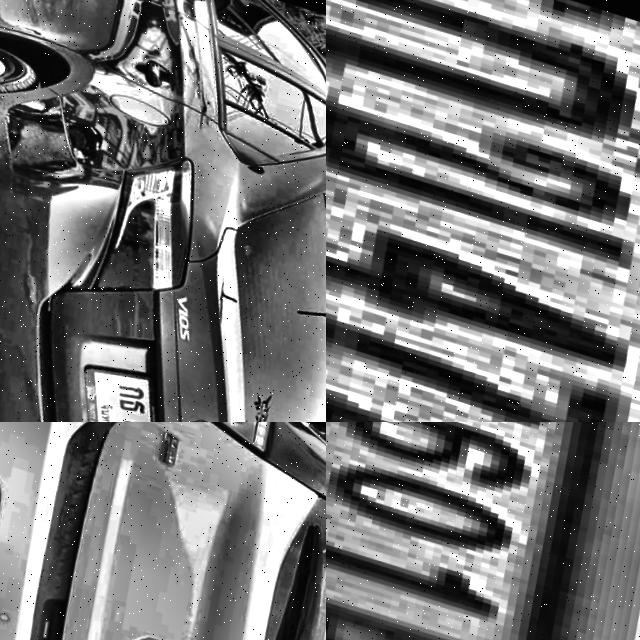license-plate: (326, 0, 640, 422), (326, 422, 640, 640), (46, 340, 180, 422)
